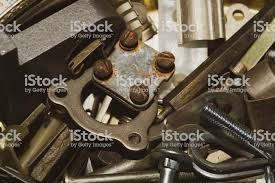metal: (45, 25, 178, 155), (197, 97, 275, 169), (148, 149, 184, 183)
